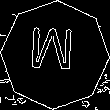M_S: (31, 28, 79, 82)
